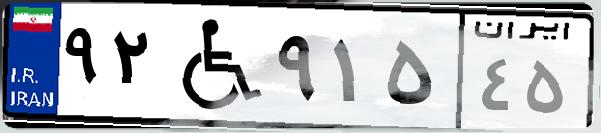1: (330, 28, 385, 110)
2: (110, 28, 158, 98)
4: (475, 38, 525, 113)
5: (385, 28, 445, 110), (525, 38, 570, 115)
9: (270, 28, 330, 110), (57, 26, 110, 100)
ژ (معلولین و جانبازان): (158, 12, 270, 120)
